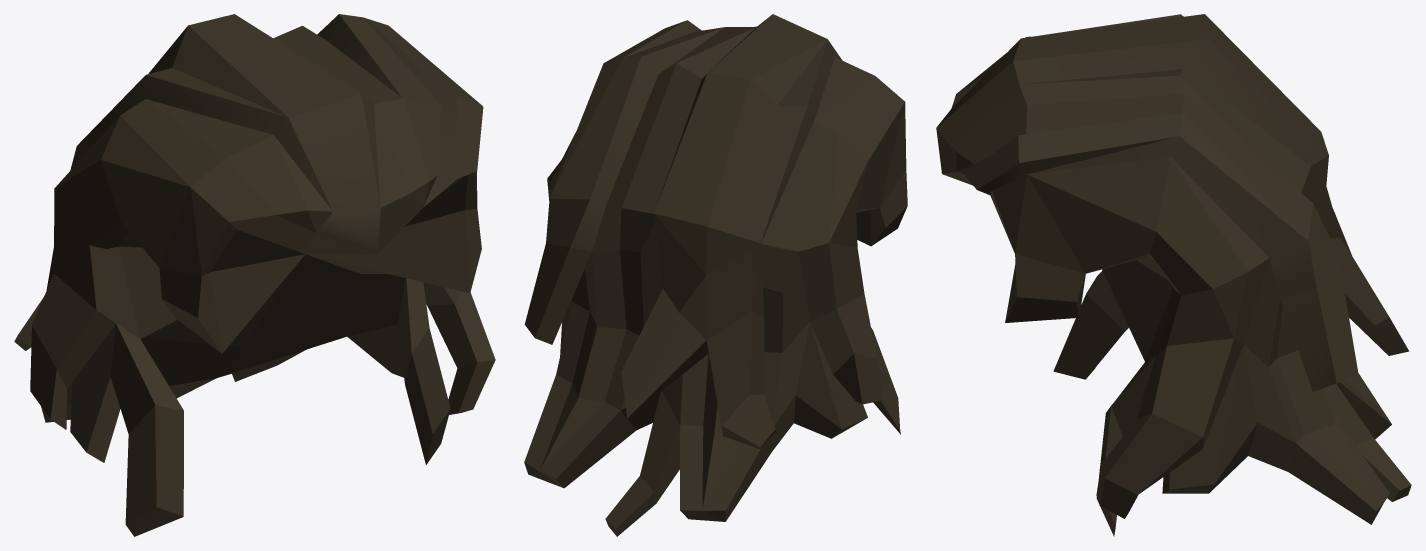
File: SM_Chr_Attach_Hair_Male_02.fbx
3 views of the same model, side by side, from view 1: azimuth 30°, elevation 25°; view 2: azimuth 150°, elevation 25°; view 3: azimuth 270°, elevation 25° (orthographic). The views are drawn at different scales.
Parts seen in each view (by area): view 1: SM_Chr_Attach_Hair_Male_02; view 2: SM_Chr_Attach_Hair_Male_02; view 3: SM_Chr_Attach_Hair_Male_02.
Part boxes in pixels (left/top/right/bottom): SM_Chr_Attach_Hair_Male_02: left=14, top=14, right=495, bottom=536; SM_Chr_Attach_Hair_Male_02: left=524, top=14, right=907, bottom=536; SM_Chr_Attach_Hair_Male_02: left=936, top=14, right=1411, bottom=536.
Size of the model in its own units: 33.46 by 37.63 by 35.49.
